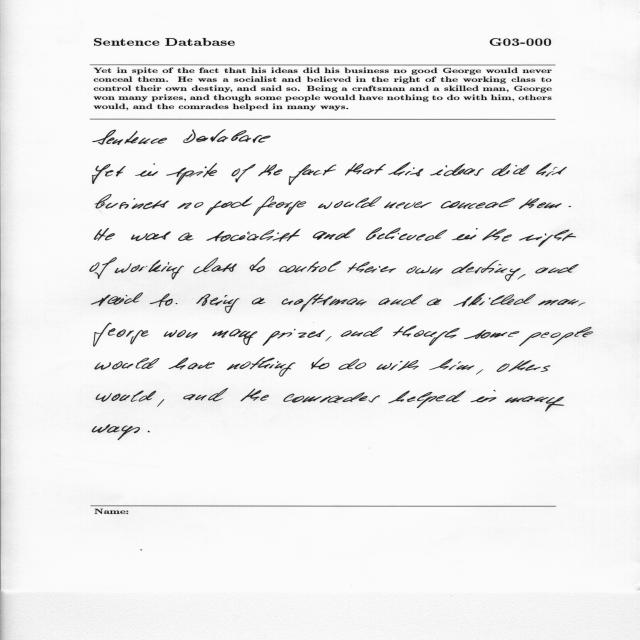word: (227, 357, 330, 377), (282, 294, 367, 312), (452, 260, 521, 281), (519, 327, 593, 346), (93, 323, 149, 347), (388, 391, 466, 408), (393, 326, 459, 346), (183, 129, 271, 143), (207, 229, 301, 242), (93, 129, 167, 145), (453, 293, 536, 307), (366, 227, 447, 241), (95, 195, 169, 210), (167, 163, 217, 185), (283, 392, 380, 403), (253, 196, 306, 216), (263, 329, 325, 346), (130, 260, 184, 279), (289, 164, 337, 185), (206, 196, 253, 215), (505, 396, 564, 411), (452, 228, 512, 242), (318, 196, 382, 209), (441, 198, 515, 209), (95, 358, 160, 370), (279, 261, 341, 273), (213, 329, 258, 345), (96, 390, 156, 402), (92, 425, 140, 440), (193, 258, 237, 274), (539, 229, 577, 247), (92, 164, 126, 184), (91, 293, 143, 306), (430, 164, 484, 176), (497, 360, 550, 372), (90, 257, 117, 279), (183, 388, 228, 401), (169, 358, 215, 370), (210, 295, 240, 313), (347, 262, 396, 273), (345, 163, 386, 176), (313, 228, 356, 240), (464, 330, 519, 339), (492, 164, 530, 177), (388, 163, 423, 177), (379, 295, 423, 306), (519, 198, 562, 209), (377, 360, 419, 371), (536, 163, 567, 177), (232, 164, 256, 182), (341, 327, 383, 337), (131, 231, 171, 241), (535, 264, 579, 273), (384, 201, 432, 209), (150, 293, 177, 307), (241, 389, 269, 402), (430, 359, 462, 370), (135, 163, 158, 177), (471, 390, 497, 402), (339, 359, 367, 370), (164, 330, 198, 339), (258, 164, 283, 176), (406, 266, 443, 274), (94, 228, 115, 241), (538, 299, 579, 305), (519, 233, 546, 241), (250, 258, 265, 272), (178, 202, 204, 209), (115, 263, 132, 273), (197, 294, 211, 306), (178, 233, 194, 241), (427, 299, 441, 306), (252, 298, 265, 305), (457, 365, 475, 370), (157, 399, 164, 407), (517, 274, 526, 280), (476, 369, 483, 375), (326, 336, 332, 341), (578, 303, 585, 306), (148, 431, 150, 433), (568, 206, 571, 207)
